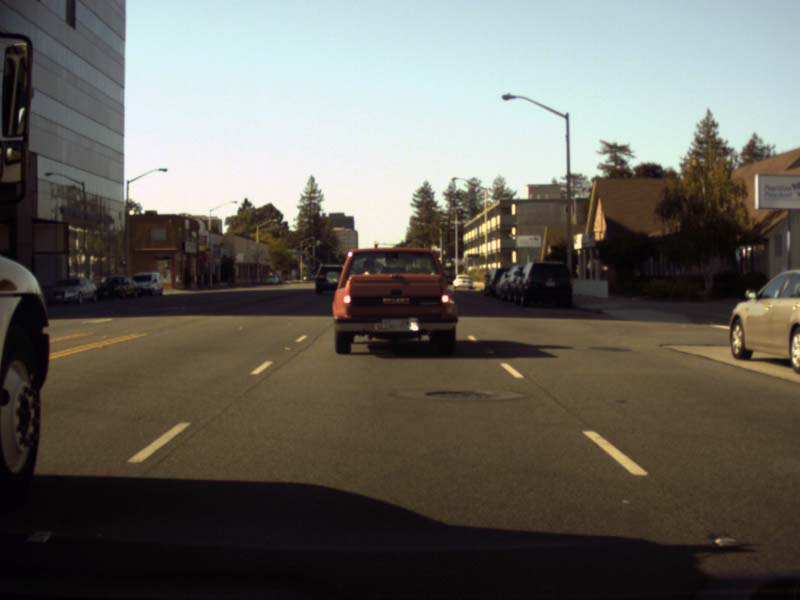Red: (374, 240, 377, 247)
